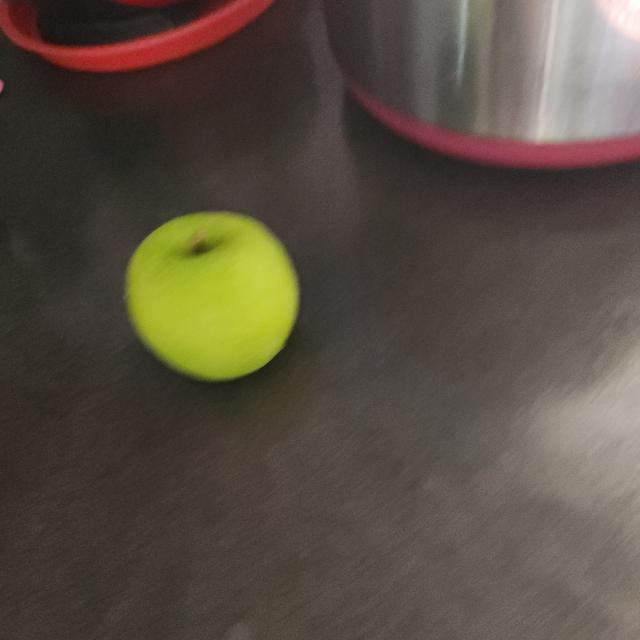apple: (117, 201, 310, 383)
